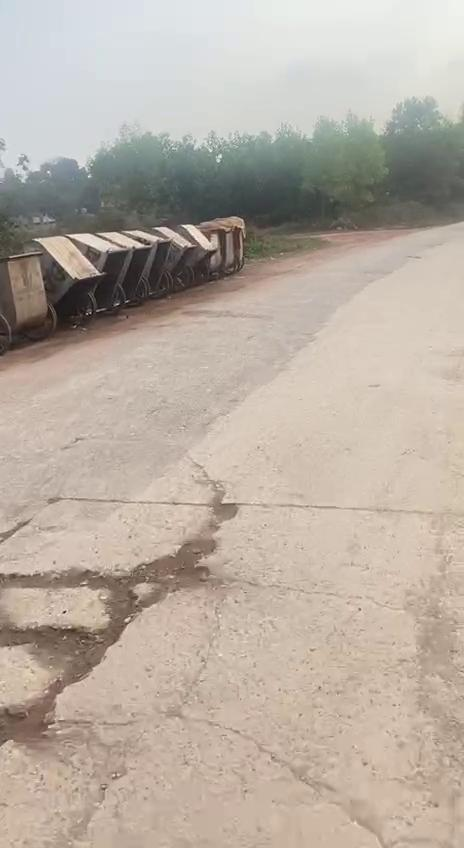pothole: (0, 488, 235, 758)
